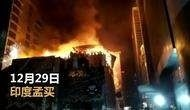fire: (10, 32, 110, 59)
